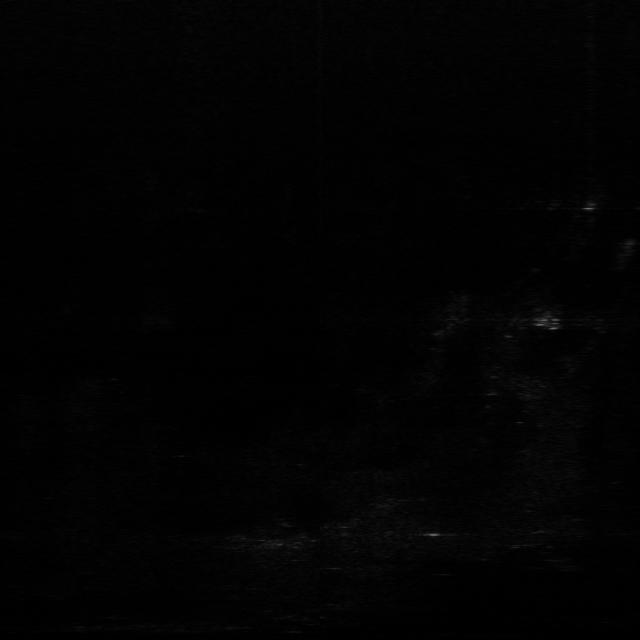rov: (532, 312, 566, 334)
